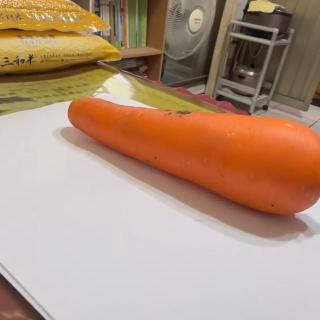carrot: (65, 95, 320, 216)
